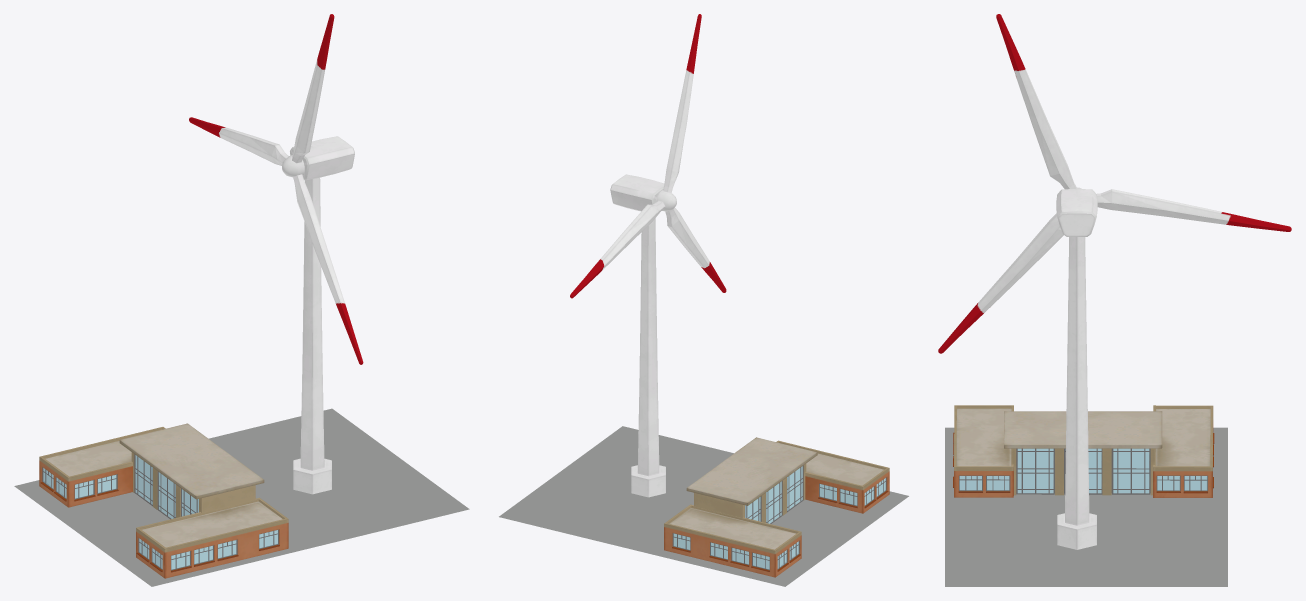
Rendered from turbin.glb.
3 renders of one model, left to right at view 1: azimuth 30°, elevation 25°; view 2: azimuth 150°, elevation 25°; view 3: azimuth 270°, elevation 25°, orthographic. The views are drawn at different scales.
Visible parts, largest first — view 1: University, Wind_Turbin, Helice_Eolienne, tile_for_home_1x1_007 (26), tile_for_home_1x1_007 (23), tile_for_home_1x1_007 (25), tile_for_home_1x1_007 (17), tile_for_home_1x1_007 (27), tile_for_home_1x1_007 (24), tile_for_home_1x1_007 (22), tile_for_home_1x1_007 (15), tile_for_home_1x1_007 (21) (+1 smaller); view 2: University, Wind_Turbin, Helice_Eolienne, tile_for_home_1x1_007 (27), tile_for_home_1x1_007 (24), tile_for_home_1x1_007 (25), tile_for_home_1x1_007 (17), tile_for_home_1x1_007 (26), tile_for_home_1x1_007 (22), tile_for_home_1x1_007 (23), tile_for_home_1x1_007 (21), tile_for_home_1x1_007 (15) (+1 smaller); view 3: University, Wind_Turbin, Helice_Eolienne, tile_for_home_1x1_007 (24), tile_for_home_1x1_007 (27), tile_for_home_1x1_007 (26), tile_for_home_1x1_007 (23), tile_for_home_1x1_007 (25), tile_for_home_1x1_007 (22), tile_for_home_1x1_007 (14), tile_for_home_1x1_007 (20), tile_for_home_1x1_007 (16) (+1 smaller).
Part boxes in pixels (x1,y1,x2,y2): University: (39, 423, 288, 578); Wind_Turbin: (290, 136, 354, 494); Helice_Eolienne: (189, 14, 363, 364); tile_for_home_1x1_007 (26): (345, 476, 469, 528); tile_for_home_1x1_007 (23): (278, 495, 389, 547); tile_for_home_1x1_007 (25): (324, 442, 423, 494); tile_for_home_1x1_007 (17): (60, 500, 166, 553); tile_for_home_1x1_007 (27): (253, 408, 377, 459); tile_for_home_1x1_007 (24): (209, 428, 295, 472); tile_for_home_1x1_007 (22): (254, 463, 343, 511); tile_for_home_1x1_007 (15): (14, 480, 138, 519); tile_for_home_1x1_007 (21): (106, 546, 230, 586); University: (664, 437, 889, 577); Wind_Turbin: (610, 174, 665, 497); Helice_Eolienne: (570, 14, 726, 298); tile_for_home_1x1_007 (27): (499, 487, 610, 534); tile_for_home_1x1_007 (24): (570, 504, 670, 551); tile_for_home_1x1_007 (25): (540, 456, 631, 503); tile_for_home_1x1_007 (17): (775, 509, 867, 556); tile_for_home_1x1_007 (26): (581, 426, 693, 468); tile_for_home_1x1_007 (22): (612, 477, 693, 518); tile_for_home_1x1_007 (23): (664, 443, 733, 483); tile_for_home_1x1_007 (21): (796, 491, 908, 526); tile_for_home_1x1_007 (15): (714, 550, 826, 586); University: (953, 405, 1214, 497); Wind_Turbin: (1056, 189, 1097, 549); Helice_Eolienne: (938, 14, 1291, 353); tile_for_home_1x1_007 (24): (1133, 507, 1227, 546); tile_for_home_1x1_007 (27): (1133, 547, 1227, 586); tile_for_home_1x1_007 (26): (945, 547, 1039, 586); tile_for_home_1x1_007 (23): (945, 507, 1039, 546); tile_for_home_1x1_007 (25): (1039, 547, 1133, 586); tile_for_home_1x1_007 (22): (1039, 507, 1133, 546); tile_for_home_1x1_007 (14): (1133, 467, 1227, 507); tile_for_home_1x1_007 (20): (945, 467, 1039, 507); tile_for_home_1x1_007 (16): (1039, 493, 1133, 507).
Bounding box in the file's own units: 32 × 48.66 × 29.98.
Materials: 3 (3 with a texture image).
